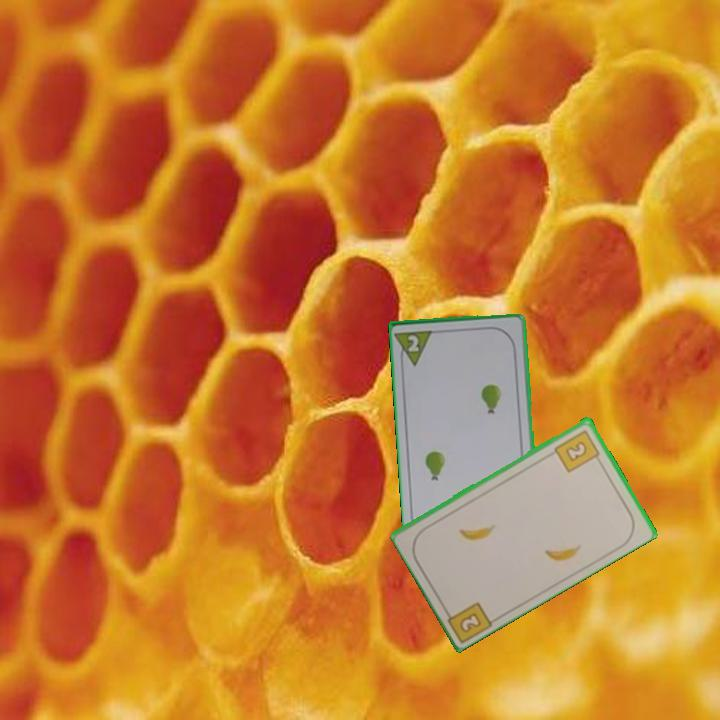2b: (551, 426, 604, 475), (440, 598, 496, 644)
2p: (404, 331, 422, 355)
